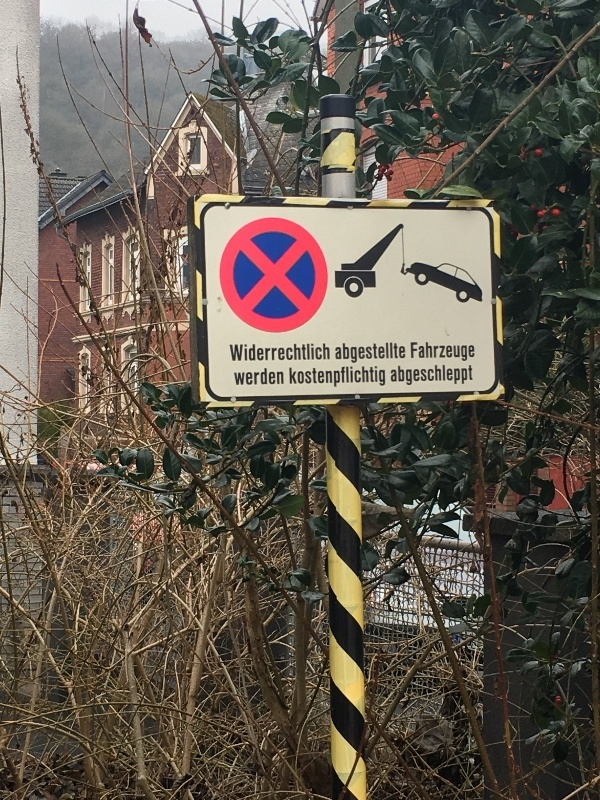text: (401, 362, 416, 388), (417, 362, 432, 388), (433, 362, 448, 388), (449, 362, 464, 388), (337, 341, 352, 366), (353, 341, 368, 366), (289, 365, 304, 390), (305, 365, 320, 390), (321, 365, 336, 390), (337, 365, 352, 390), (353, 365, 368, 390), (369, 365, 384, 390), (417, 340, 432, 363), (433, 340, 448, 363), (449, 340, 464, 363), (241, 343, 256, 363), (257, 343, 272, 363), (273, 343, 288, 363), (289, 343, 304, 363), (305, 343, 320, 363), (465, 362, 476, 388), (241, 369, 256, 388), (257, 369, 272, 388), (390, 362, 400, 388), (465, 340, 476, 363), (273, 369, 285, 388), (229, 343, 240, 363), (321, 343, 330, 363), (410, 340, 416, 363), (233, 369, 240, 388), (369, 341, 374, 366), (385, 365, 388, 390), (335, 341, 336, 366)
